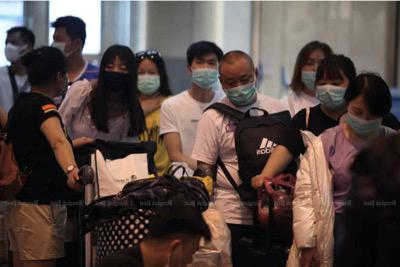mask_weared_incorrect: (299, 56, 328, 93), (170, 237, 201, 266)
with_mask: (345, 104, 383, 137), (223, 73, 258, 108), (314, 78, 348, 111), (102, 62, 133, 97), (190, 56, 220, 90), (136, 68, 160, 96), (50, 34, 68, 61), (4, 39, 23, 62)
